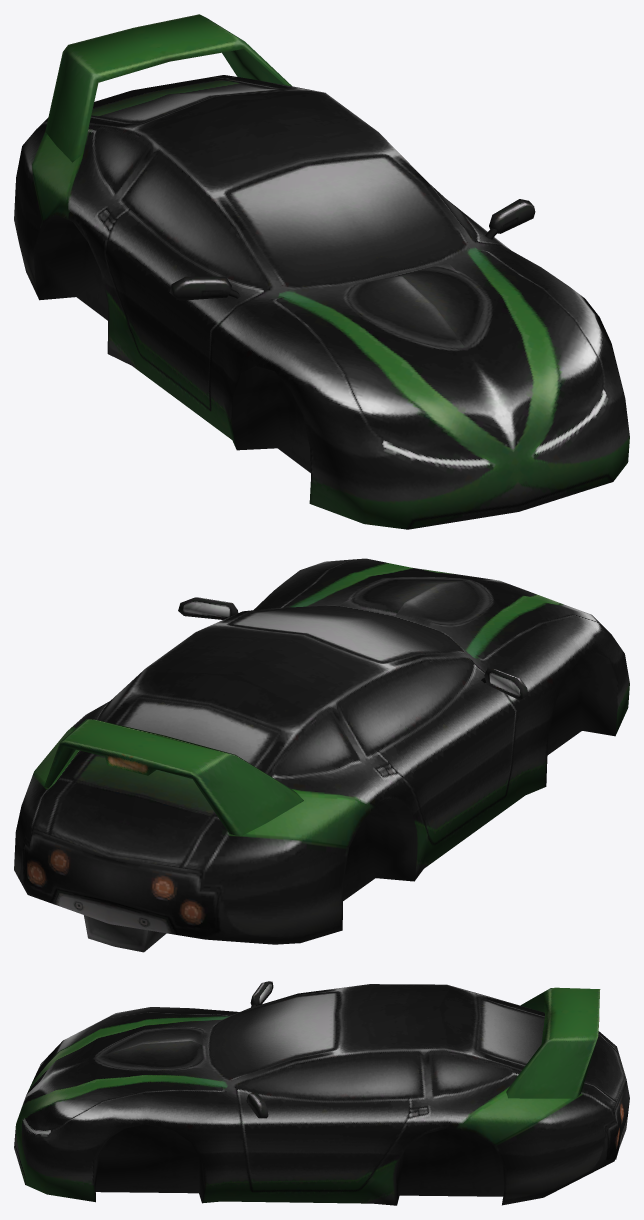
The model's file is DX Mark 10.obj.
The picture shows the model from 3 angles, top to bottom: view 1: azimuth 30°, elevation 25°; view 2: azimuth 150°, elevation 25°; view 3: azimuth 270°, elevation 25°; orthographic projection. The views are drawn at different scales.
Visible parts, largest first — view 1: Inst3D_RefRep_1034; view 2: Inst3D_RefRep_1034; view 3: Inst3D_RefRep_1034.
Part boxes in pixels (bbox=[...]): Inst3D_RefRep_1034: bbox=[14, 14, 629, 529]; Inst3D_RefRep_1034: bbox=[14, 558, 629, 952]; Inst3D_RefRep_1034: bbox=[14, 981, 629, 1205].
Size of the model in its own units: 4.42 by 2.35 by 8.93.
